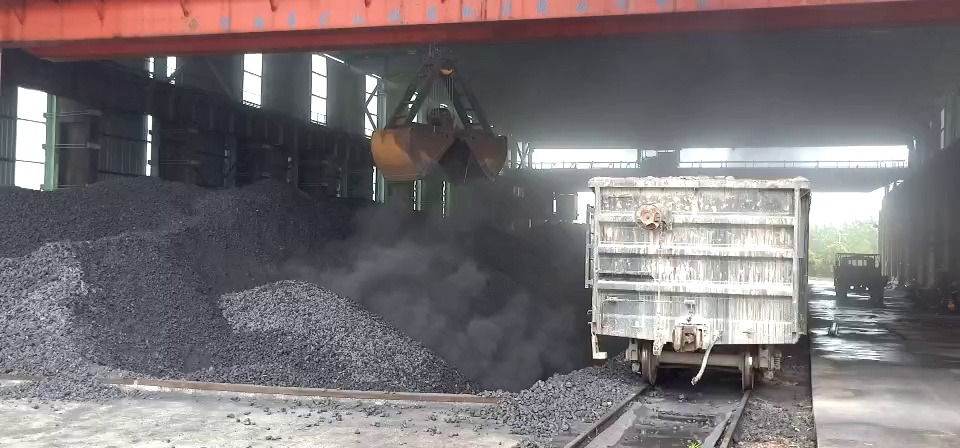dust: (344, 222, 580, 377), (569, 86, 816, 178)
grab: (364, 45, 513, 186)
